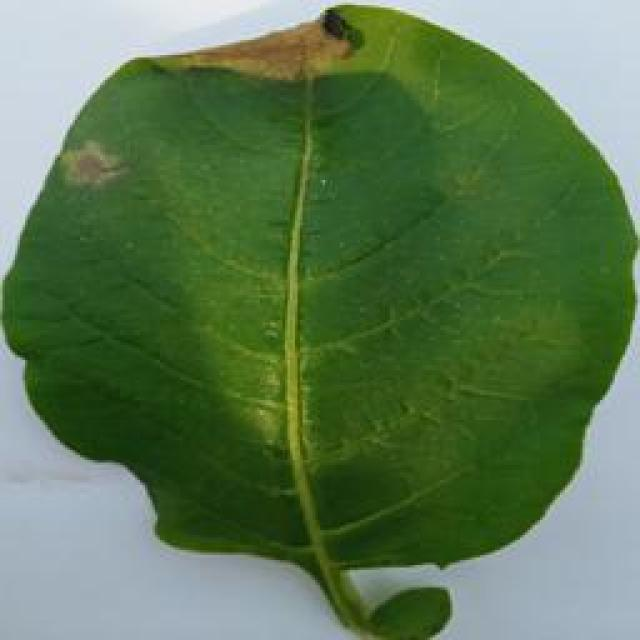Potato_Late_Blight: (6, 7, 629, 637)
